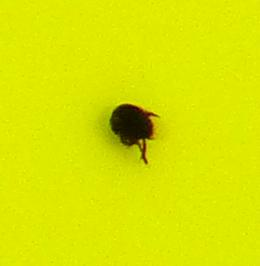Hymenoptera: (100, 100, 160, 166)
